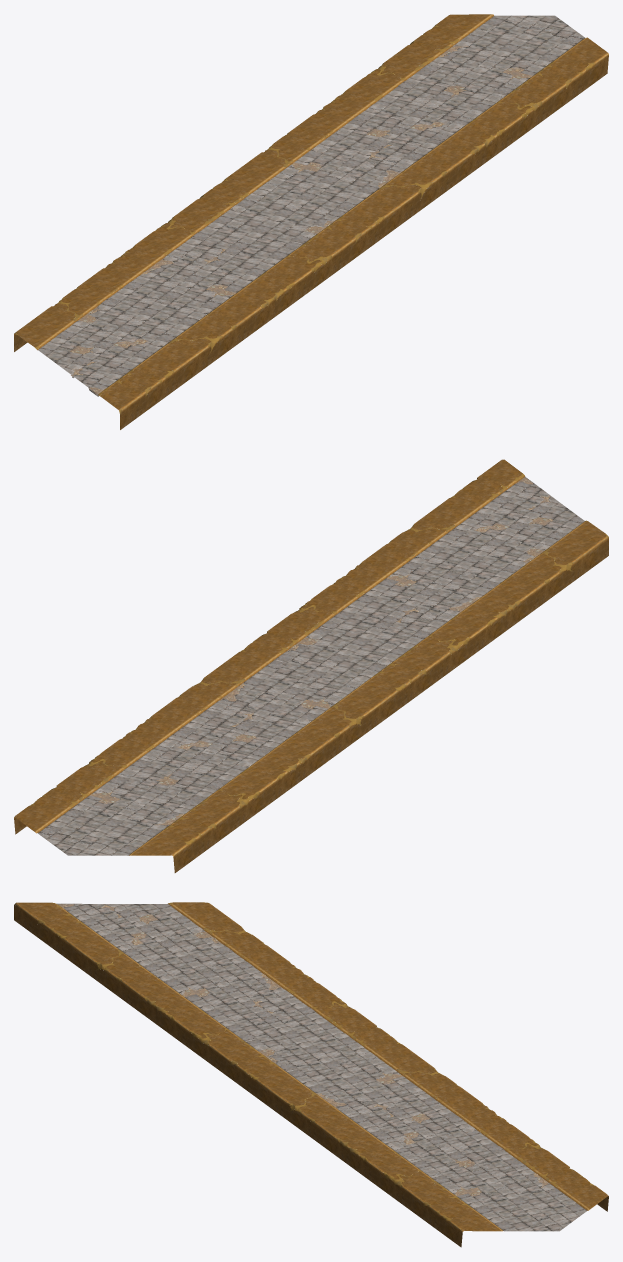
3 views of the same model, one above another, from view 1: azimuth 30°, elevation 25°; view 2: azimuth 210°, elevation 25°; view 3: azimuth 270°, elevation 25° (orthographic). The views are drawn at different scales.
Parts seen in each view (by area): view 1: SM_Nightmare_Crucible_Arena_Side_Section_ThinA_01v1_LOD0; view 2: SM_Nightmare_Crucible_Arena_Side_Section_ThinA_01v1_LOD0; view 3: SM_Nightmare_Crucible_Arena_Side_Section_ThinA_01v1_LOD0.
Boxes of the visible parts, <box> form: SM_Nightmare_Crucible_Arena_Side_Section_ThinA_01v1_LOD0: <box>14,14,608,429</box>; SM_Nightmare_Crucible_Arena_Side_Section_ThinA_01v1_LOD0: <box>14,459,608,872</box>; SM_Nightmare_Crucible_Arena_Side_Section_ThinA_01v1_LOD0: <box>14,902,608,1247</box>.
Size of the model in its own units: 92.33 by 2.38 by 70.66.
Materials: 4 (4 with a texture image).
